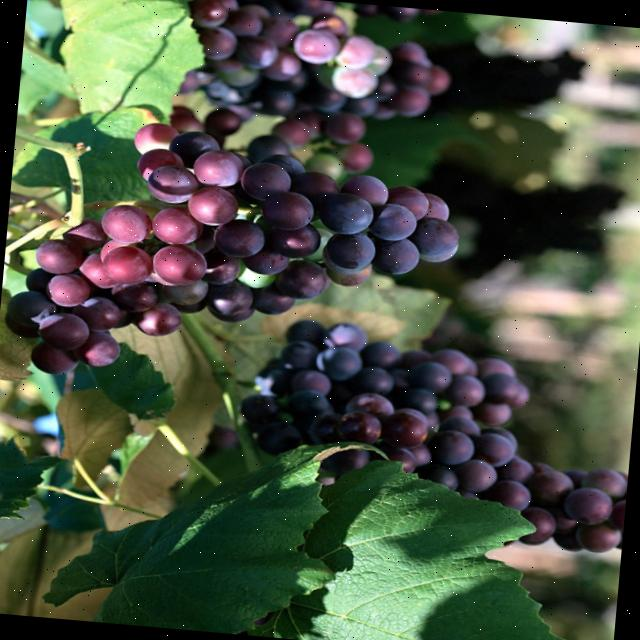grape: (4, 121, 457, 373), (239, 319, 625, 551), (178, 0, 450, 153), (345, 2, 438, 21)
